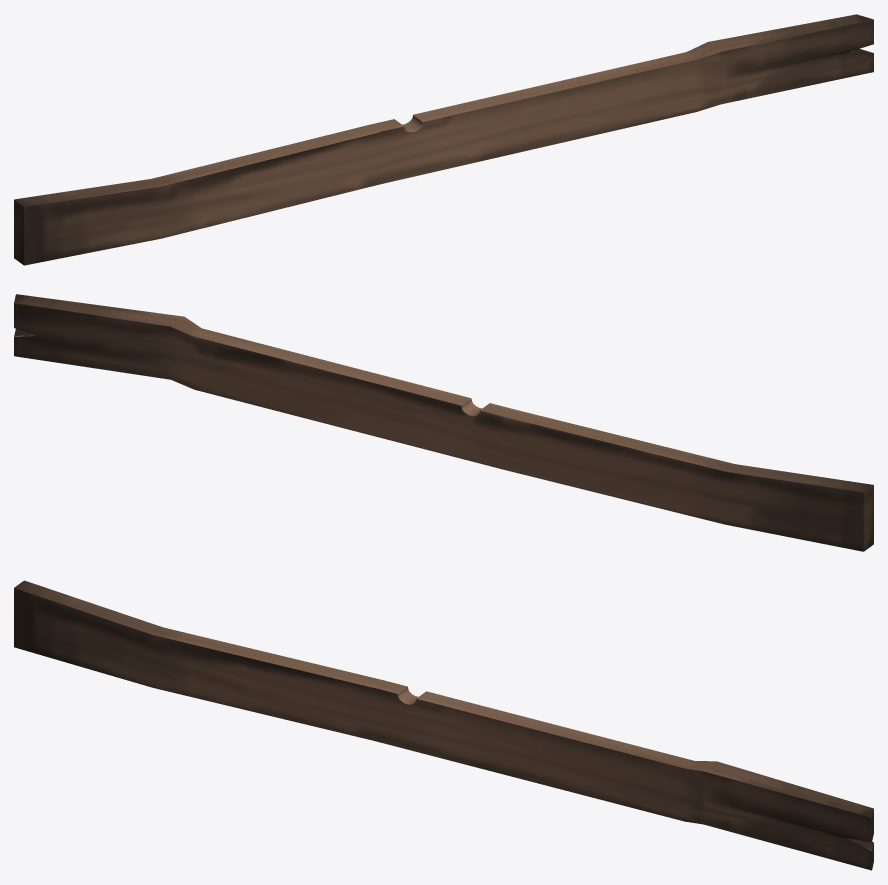
File: Z1_Wood_Plank_1.FBX
The picture shows the model from 3 angles, top to bottom: view 1: azimuth 30°, elevation 25°; view 2: azimuth 150°, elevation 25°; view 3: azimuth 330°, elevation 25°; orthographic projection.
Parts seen in each view (by area): view 1: Z1_Wood_Plank_1; view 2: Z1_Wood_Plank_1; view 3: Z1_Wood_Plank_1.
Part boxes in pixels (bbox=[...]): Z1_Wood_Plank_1: bbox=[14, 14, 873, 265]; Z1_Wood_Plank_1: bbox=[14, 294, 873, 551]; Z1_Wood_Plank_1: bbox=[14, 580, 873, 870].
Size of the model in its own units: 431 by 34.85 by 15.81.
